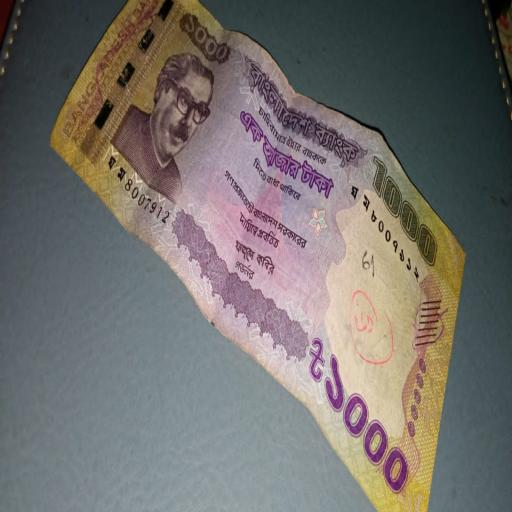1000taka: (51, 0, 465, 511)
